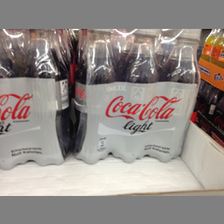soda: (117, 29, 162, 163), (26, 30, 71, 164), (75, 29, 118, 163), (157, 29, 199, 163)
